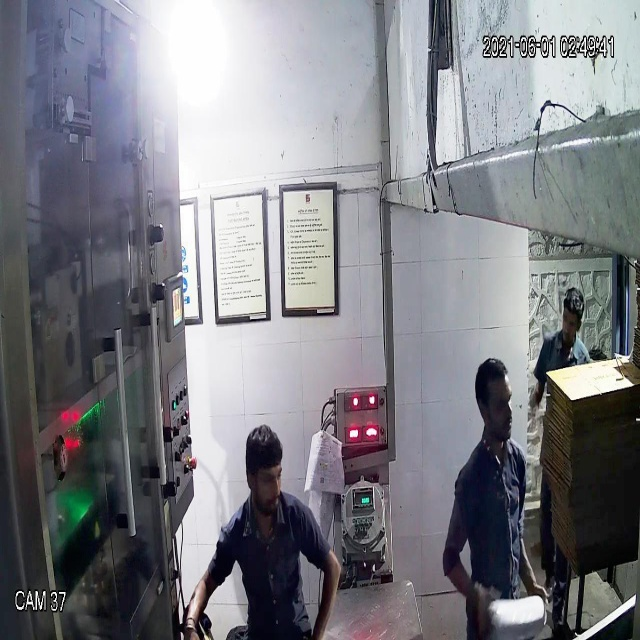Sin_gafas: (471, 390, 520, 424), (244, 460, 289, 495)
